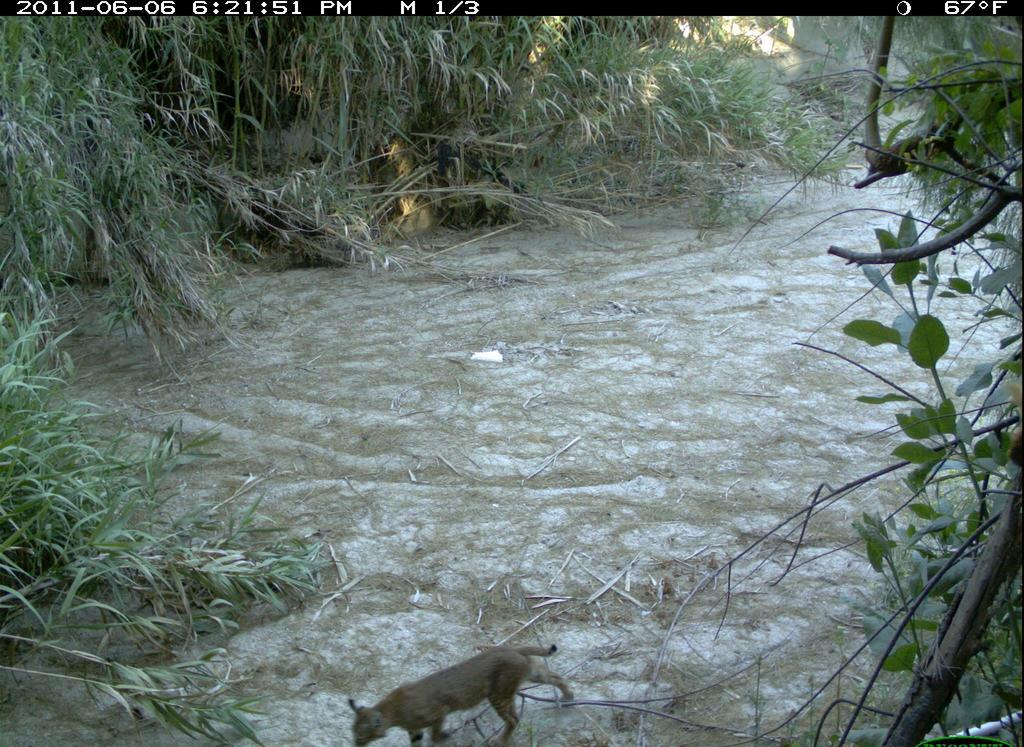bobcat: (331, 632, 579, 747)
